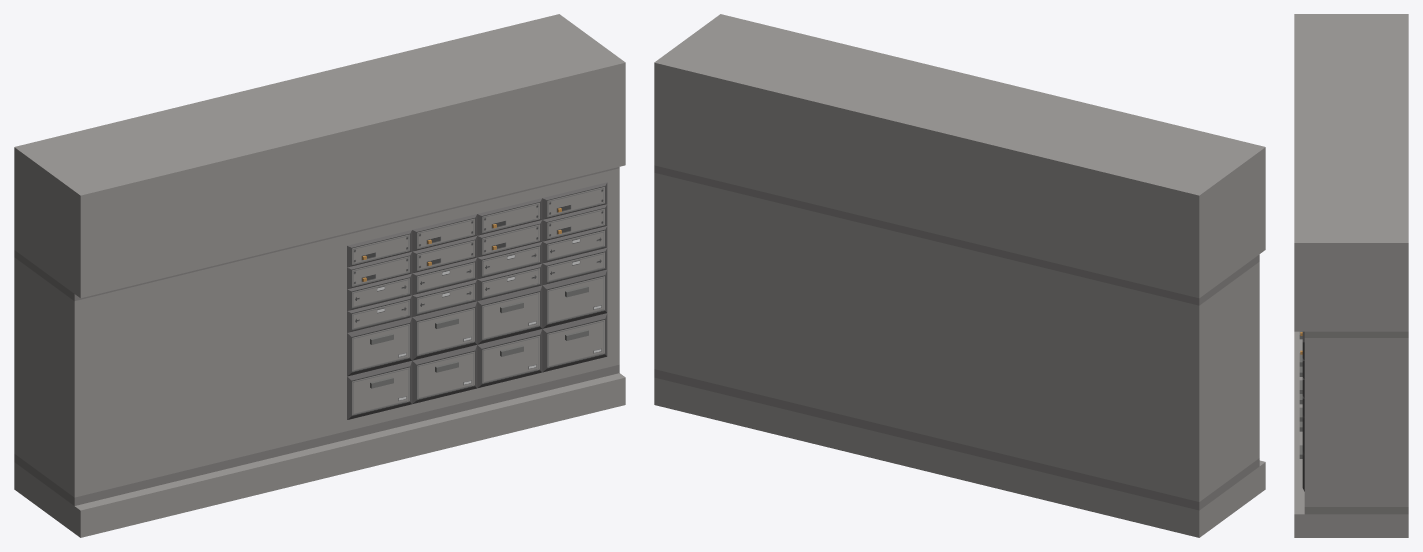
File: Prop_SafeDepositBoxes_Half_01.glb
3 renders of one model, left to right at view 1: azimuth 30°, elevation 25°; view 2: azimuth 150°, elevation 25°; view 3: azimuth 270°, elevation 25°, orthographic. The views are drawn at different scales.
Visible parts, largest first — view 1: SM_Prop_SafeDepositBoxes_Half_01; view 2: SM_Prop_SafeDepositBoxes_Half_01; view 3: SM_Prop_SafeDepositBoxes_Half_01.
Boxes of the visible parts, x1,y1,x2,y2 form: SM_Prop_SafeDepositBoxes_Half_01: (14,14,625,537); SM_Prop_SafeDepositBoxes_Half_01: (654,14,1265,537); SM_Prop_SafeDepositBoxes_Half_01: (1294,14,1408,537).
Size of the model in its own units: 5 by 3 by 1.05.
Materials: 1 (1 with a texture image).
